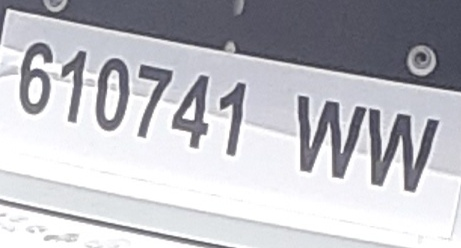0: (94, 57, 130, 132)
1: (217, 80, 248, 159), (58, 48, 89, 124)
4: (173, 74, 211, 151)
6: (18, 39, 54, 116)
7: (135, 63, 174, 141)
w: (365, 106, 440, 193), (294, 93, 366, 181)
